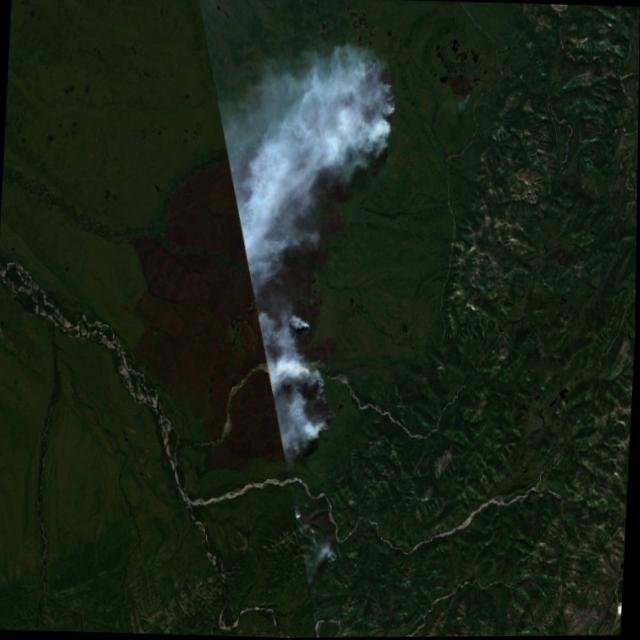fire: (344, 46, 405, 161), (280, 350, 344, 450), (290, 500, 311, 535)
